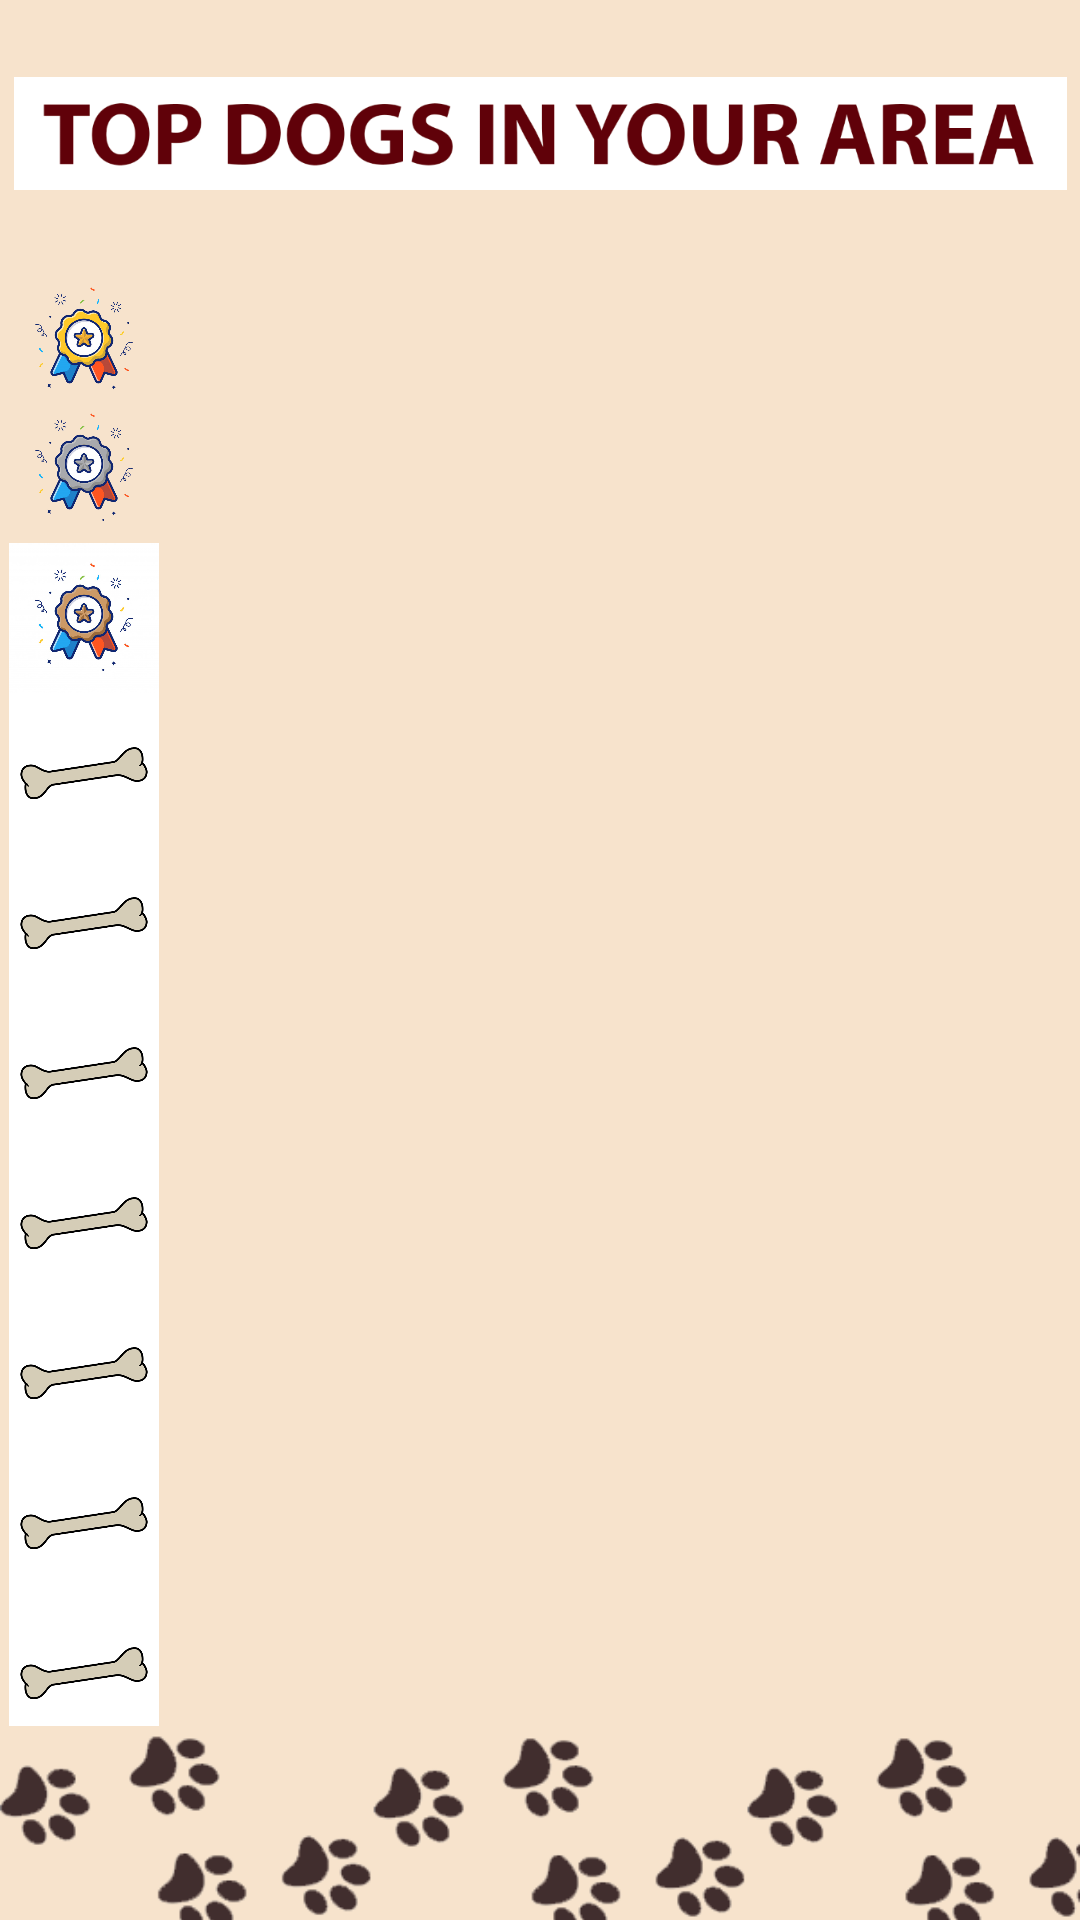

Screen size 1080w x 1920h. Icon name, then its box in pixels as (x1, y1, x2, y2):
bronze: (9, 543, 159, 693)
goldmedal: (35, 287, 133, 417)
silvermedal: (35, 413, 133, 521)
